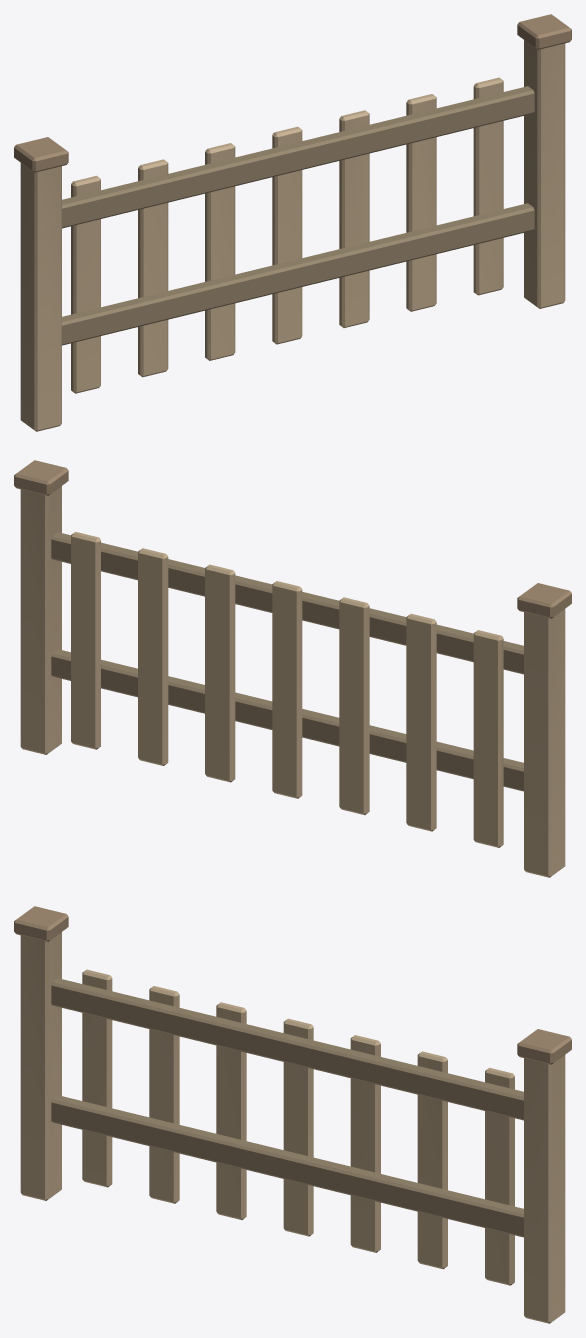
Rendered from furn_fence_piece__oak.glb.
The picture shows the model from 3 angles, top to bottom: view 1: azimuth 30°, elevation 25°; view 2: azimuth 150°, elevation 25°; view 3: azimuth 330°, elevation 25°; orthographic projection.
Bounding box in the file's own units: 1.93 × 0.945 × 0.13.
